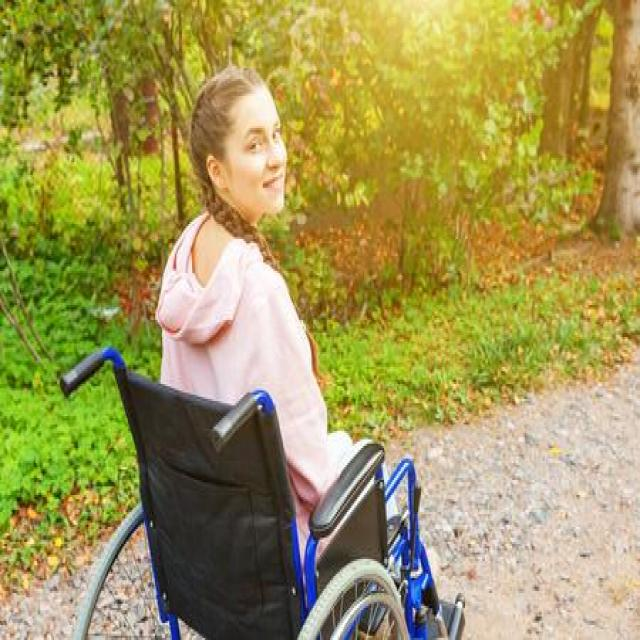wheelchairs: (45, 326, 474, 640)
